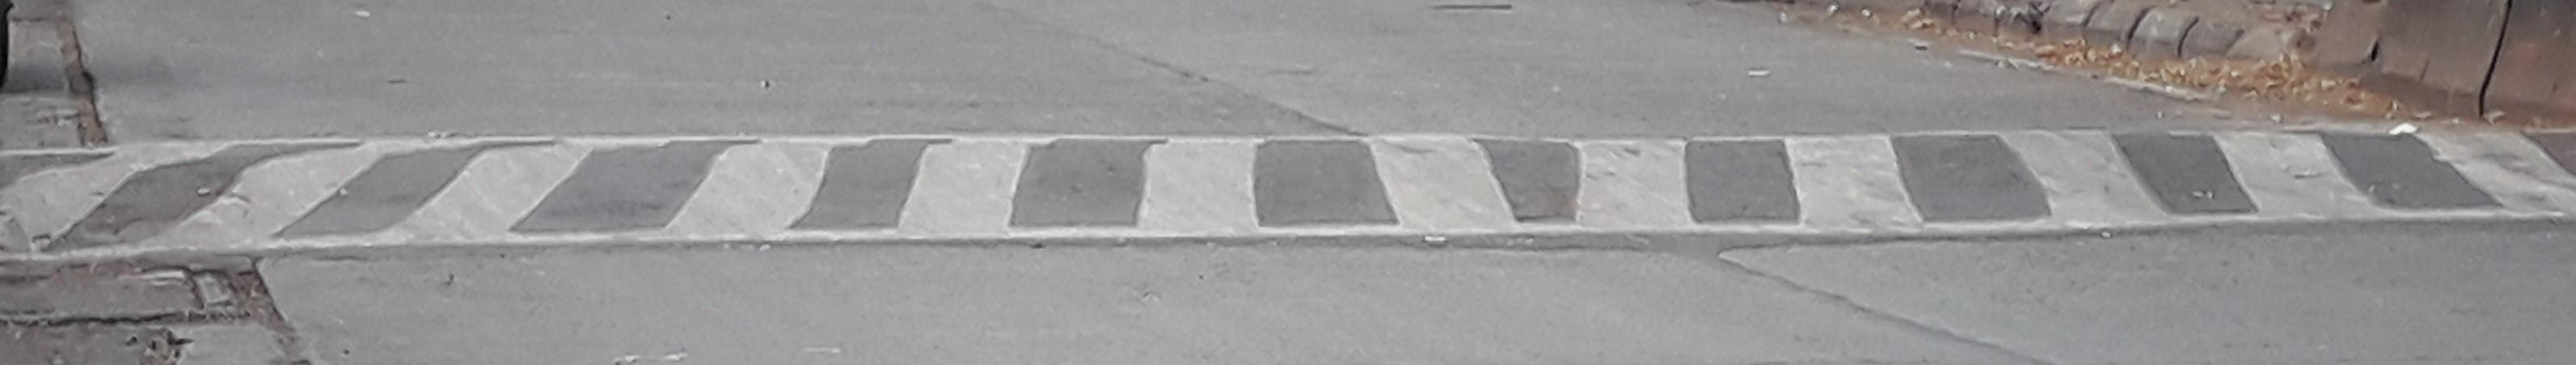speed-bump: (6, 119, 2576, 270)
